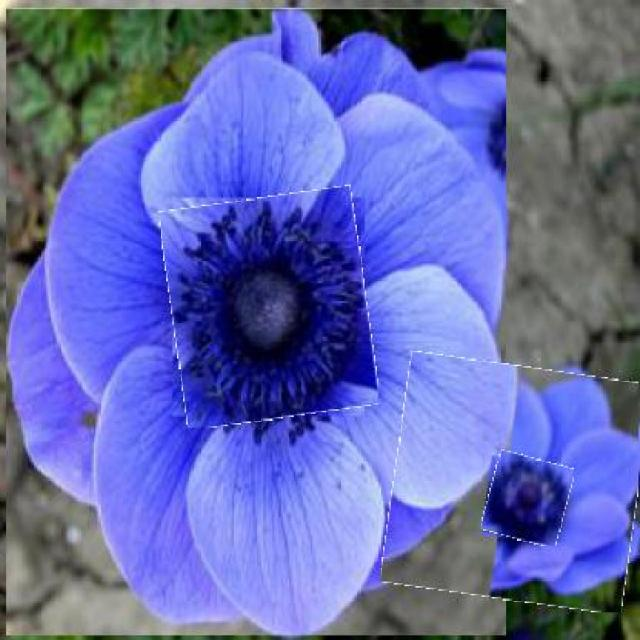Flower: (6, 8, 508, 637), (388, 357, 639, 608), (165, 191, 373, 423), (485, 454, 571, 545)
